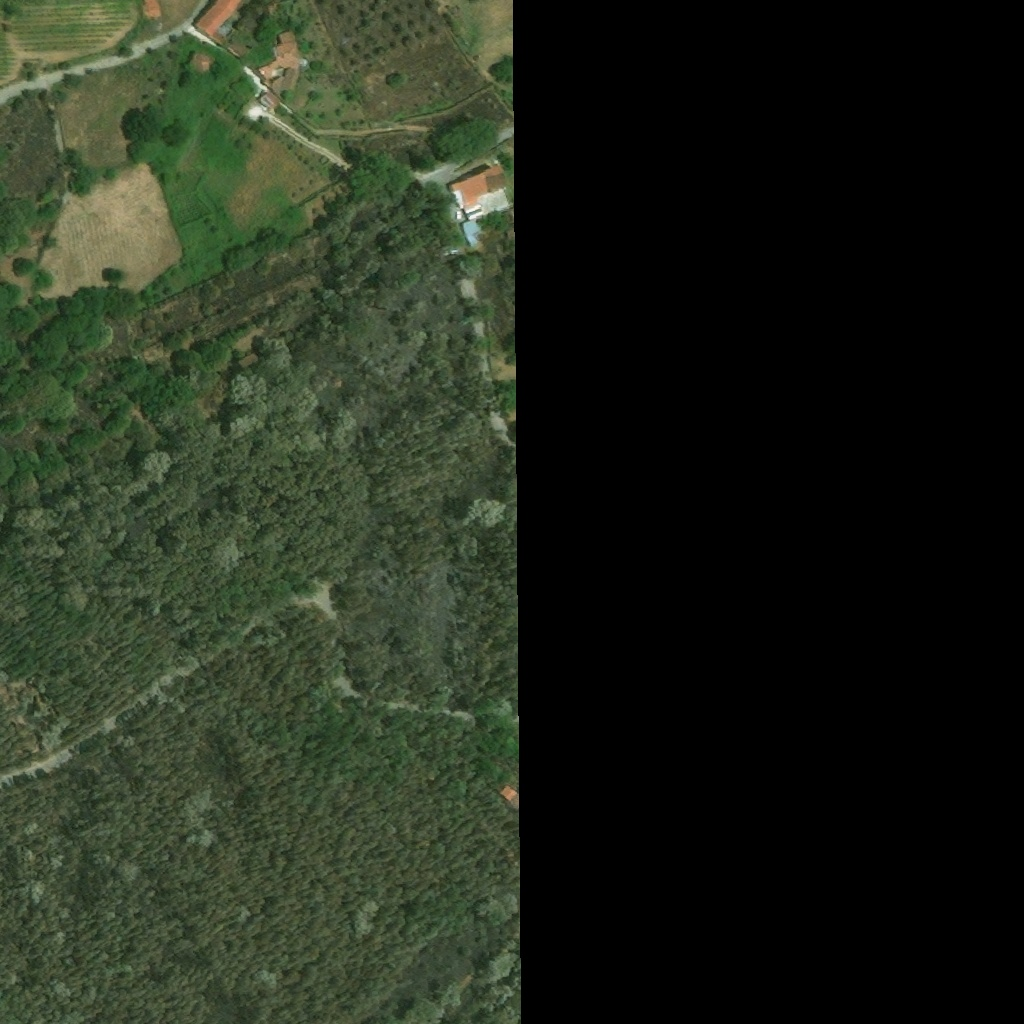0 no-damage: (190, 0, 252, 61), (443, 165, 506, 221), (256, 30, 299, 99), (185, 51, 213, 77), (256, 89, 281, 112), (459, 221, 479, 247), (499, 783, 519, 801), (144, 0, 157, 15)
